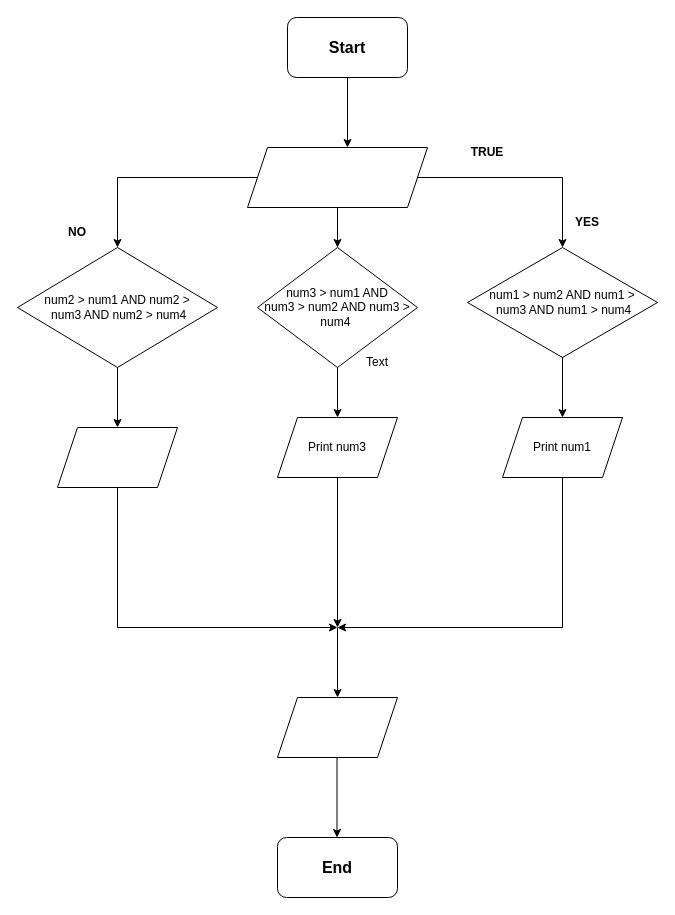
Some shapes in this 675 by 915 pixel diagram are drawn without their labels. The shapes that lost their labels are listed below. From the top down, each one's centre as x and y in pixels, then its label:
At (x=337, y=177): "Input Fourth Veriabels num1,num2,num3,num4".
At (x=117, y=457): "Print num2".
At (x=337, y=727): "Print num4".
